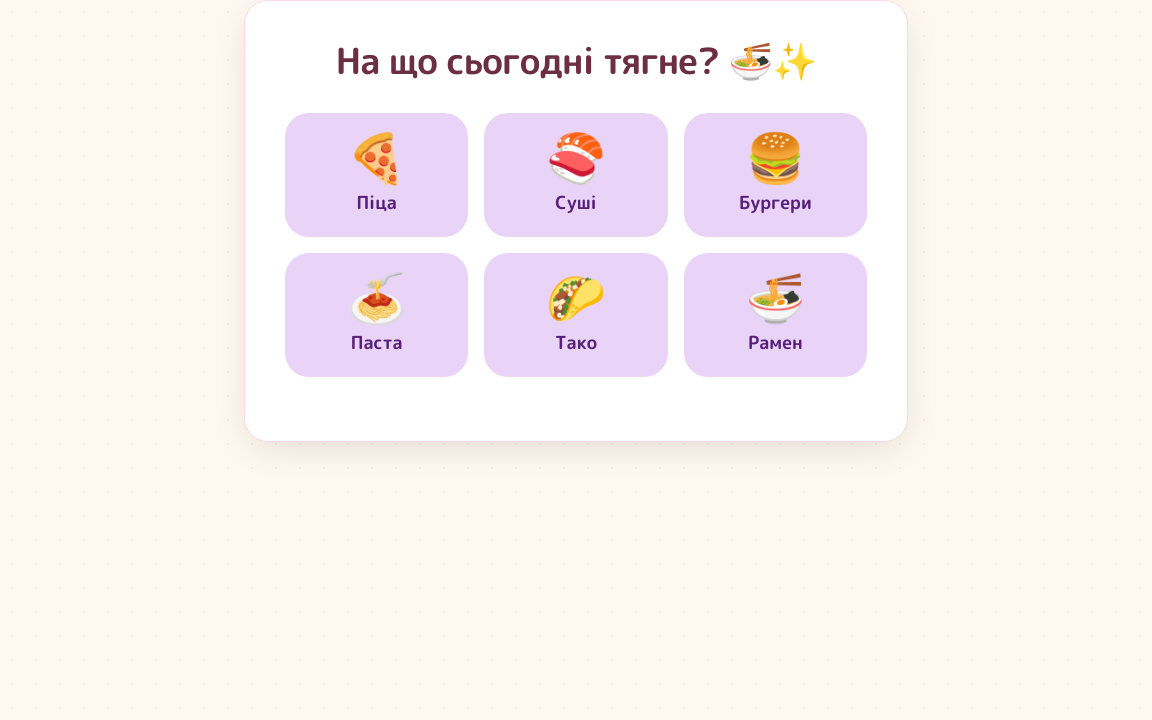
FoodPage › selecting an option reveals the confirm button
Click the radio button with test id "food-pizza" at (377, 175), box [285, 113, 468, 237]
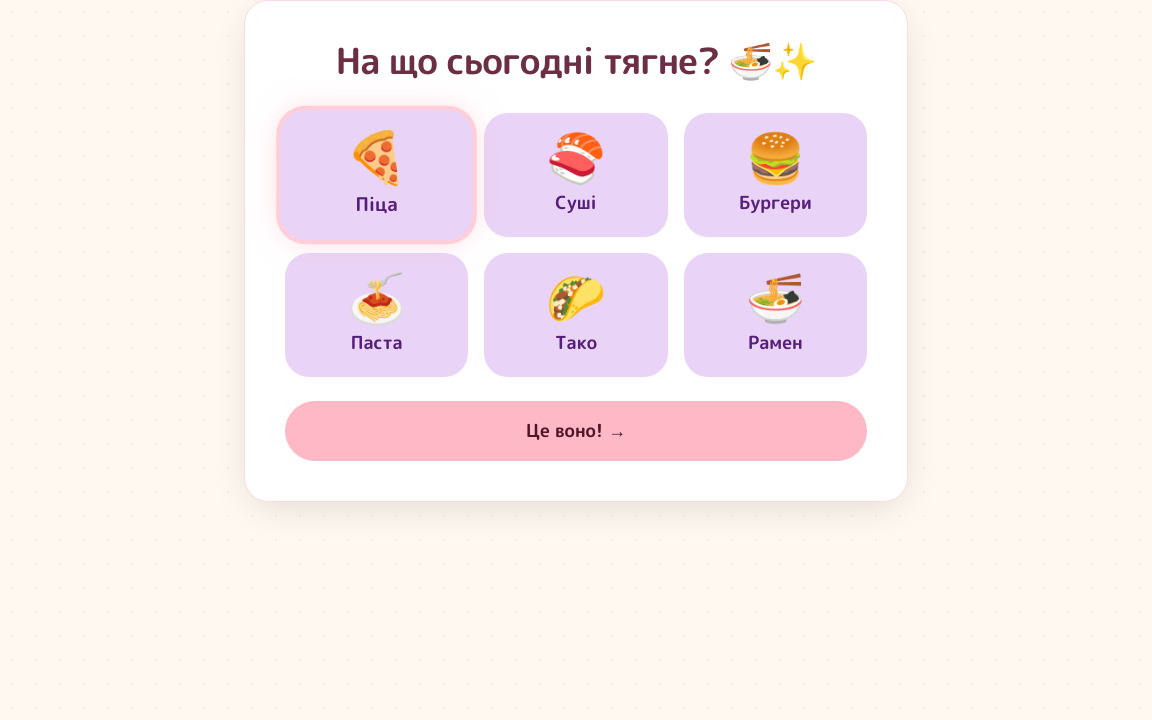
Expected: the button "Це воно! →" is shown, [285, 401, 867, 461]
